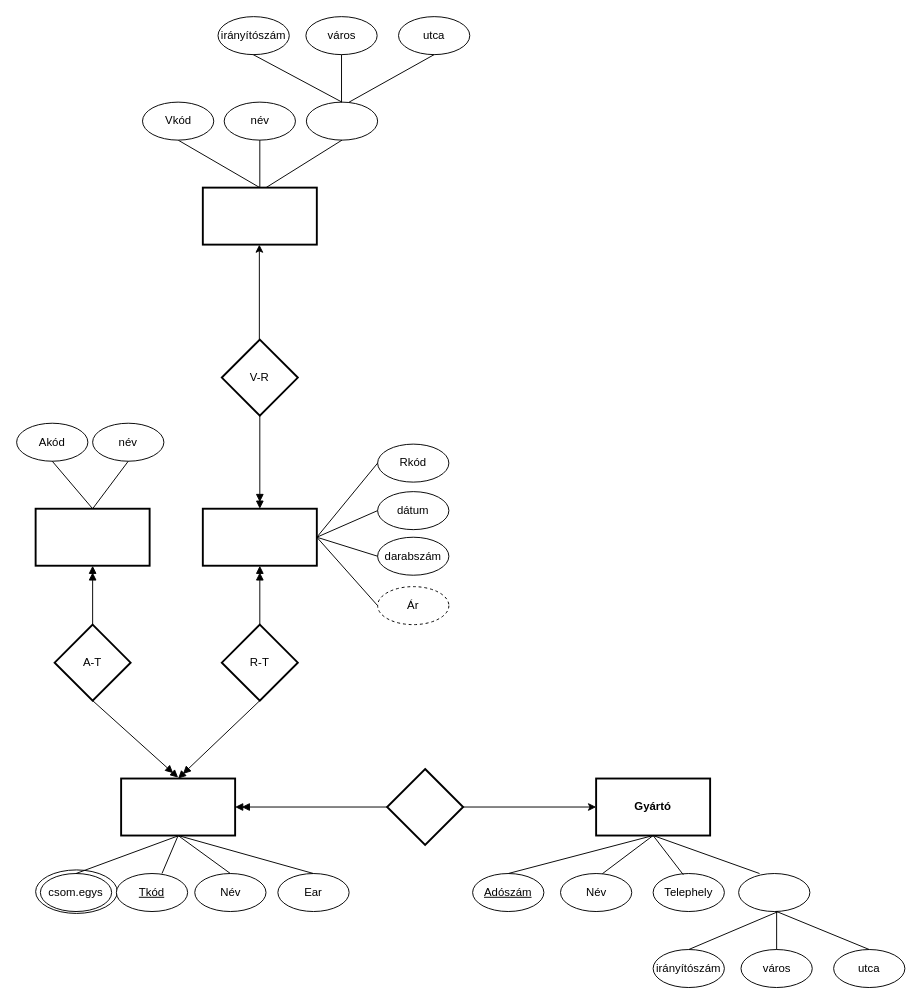
The diagram is 922 pixels wide and 1004 high, and some of its shapes have lost their labels. Here are the shapes that lost their labels. From the top down, the centre of each, then its label:
(341,120): lakcím
(259,215): Vevő
(92,536): Alkatrész
(259,536): Rendelés
(178,806): Termék
(425,807): T-Gy
(774,892): Postai cím
